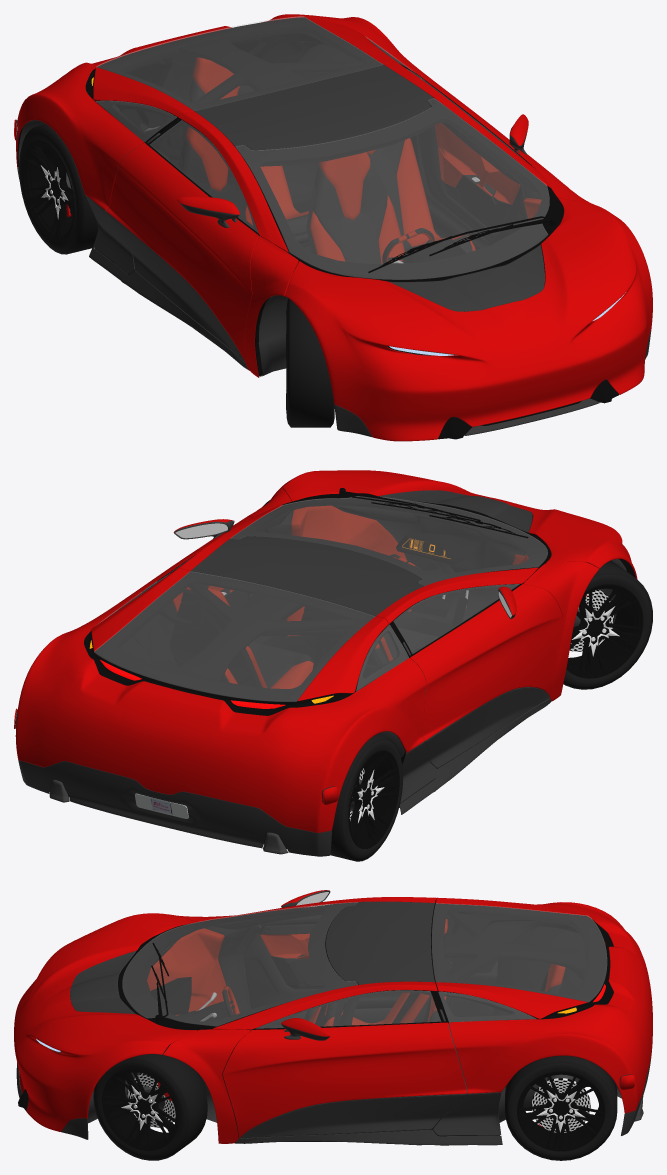
File: car.glb
3 renders of one model, top to bottom at view 1: azimuth 30°, elevation 25°; view 2: azimuth 150°, elevation 25°; view 3: azimuth 270°, elevation 25°, orthographic. The views are drawn at different scales.
Visible parts, largest first — view 1: BodyHood, BodyWindshield, BodyRearwindow, BodyDoorRColor1, BodyRearPanelsColor1, BodyRoofPanel, BodyWindshieldGasket, InteriorSeatsColor1, InteriorSeatsColor2, BodyPillars, InteriorPillar, InteriorRearHatch (+21 smaller); view 2: BodyRearPanelsColor1, BodyRearwindow, BodyWindshield, BodyDoorRColor1, BodyPanelsColor2, BodyRoofPanel, BodyHood, InteriorRearHatch, BodyPillars, InteriorPillar, BodyWindshieldGasket, InteriorDashMid (+22 smaller); view 3: BodyWindshield, BodyRearPanelsColor1, BodyDoorLColor1, BodyHood, BodyRearwindow, BodyRoofPanel, BodyPillars, BodyWindshieldGasket, BodyDoorLColor2, BodyPanelsColor2, WheelFrontL, InteriorRearHatch (+25 smaller).
Boxes of the visible parts, x1,y1,x2,y2 form: BodyHood: [285, 198, 652, 441]; BodyWindshield: [235, 98, 549, 279]; BodyRearwindow: [97, 16, 383, 110]; BodyDoorRColor1: [106, 143, 258, 362]; BodyRearPanelsColor1: [16, 14, 430, 210]; BodyRoofPanel: [195, 65, 432, 150]; BodyWindshieldGasket: [235, 99, 563, 281]; InteriorSeatsColor1: [186, 57, 475, 263]; InteriorSeatsColor2: [181, 78, 472, 263]; BodyPillars: [178, 61, 599, 377]; InteriorPillar: [159, 37, 435, 168]; InteriorRearHatch: [95, 17, 383, 117]; BodyRearPanelsColor1: [15, 568, 426, 832]; BodyRearwindow: [94, 571, 374, 701]; BodyWindshield: [230, 496, 547, 585]; BodyDoorRColor1: [410, 584, 562, 740]; BodyPanelsColor2: [18, 698, 551, 856]; BodyRoofPanel: [190, 536, 423, 616]; BodyHood: [280, 470, 637, 579]; InteriorRearHatch: [95, 572, 386, 705]; BodyPillars: [176, 488, 599, 701]; InteriorPillar: [175, 573, 418, 681]; BodyWindshieldGasket: [231, 496, 551, 586]; InteriorDashMid: [332, 502, 528, 621]; BodyWindshield: [122, 902, 357, 1026]; BodyRearPanelsColor1: [436, 897, 652, 1113]; BodyDoorLColor1: [222, 1022, 467, 1137]; BodyHood: [14, 913, 196, 1131]; BodyRearwindow: [432, 903, 606, 1001]; BodyRoofPanel: [326, 901, 434, 984]; BodyPillars: [163, 897, 437, 1143]; BodyWindshieldGasket: [118, 903, 357, 1030]; BodyDoorLColor2: [240, 1094, 467, 1138]; BodyPanelsColor2: [16, 1048, 652, 1145]; WheelFrontL: [93, 1052, 207, 1160]; InteriorRearHatch: [431, 903, 606, 1018].
Bounding box in the file's own units: 2.54 × 1.15 × 4.36.
27 materials, 6 textured.
